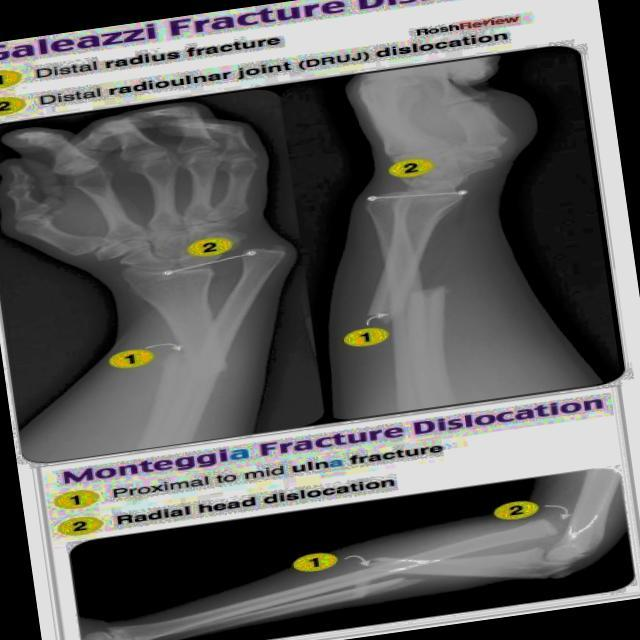Fracture Dislocation: (498, 526, 596, 576), (139, 256, 284, 286), (352, 187, 474, 221), (161, 338, 243, 382), (361, 285, 455, 322), (349, 566, 421, 596)
